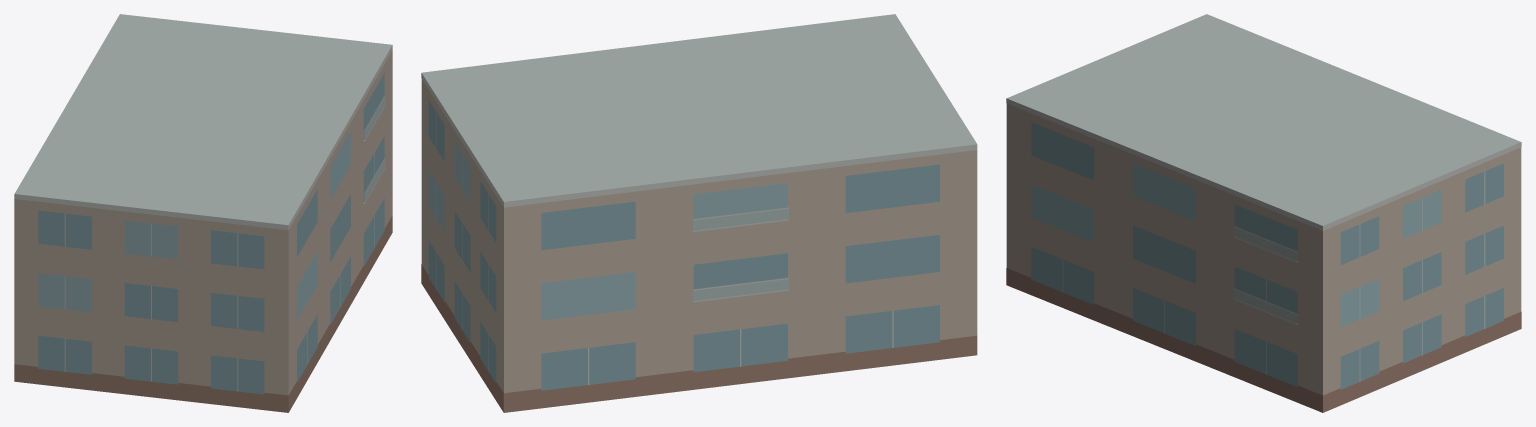
Rendered from survey-upis-32884998.glb.
3 views of the same model, side by side, from view 1: azimuth 30°, elevation 25°; view 2: azimuth 150°, elevation 25°; view 3: azimuth 270°, elevation 25° (orthographic). The views are drawn at different scales.
Parts seen in each view (by area): view 1: survey-upis-32884998.tmp; view 2: survey-upis-32884998.tmp; view 3: survey-upis-32884998.tmp.
Boxes of the visible parts, left/top/right/bottom form: survey-upis-32884998.tmp: left=14, top=14, right=392, bottom=412; survey-upis-32884998.tmp: left=421, top=14, right=977, bottom=412; survey-upis-32884998.tmp: left=1006, top=14, right=1521, bottom=412.
Bounding box in the file's own units: 22.28 × 9.15 × 22.86.
